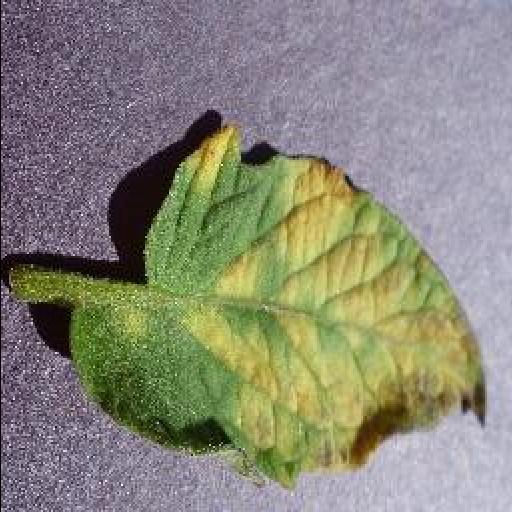disease_tomato: (66, 127, 486, 491)
